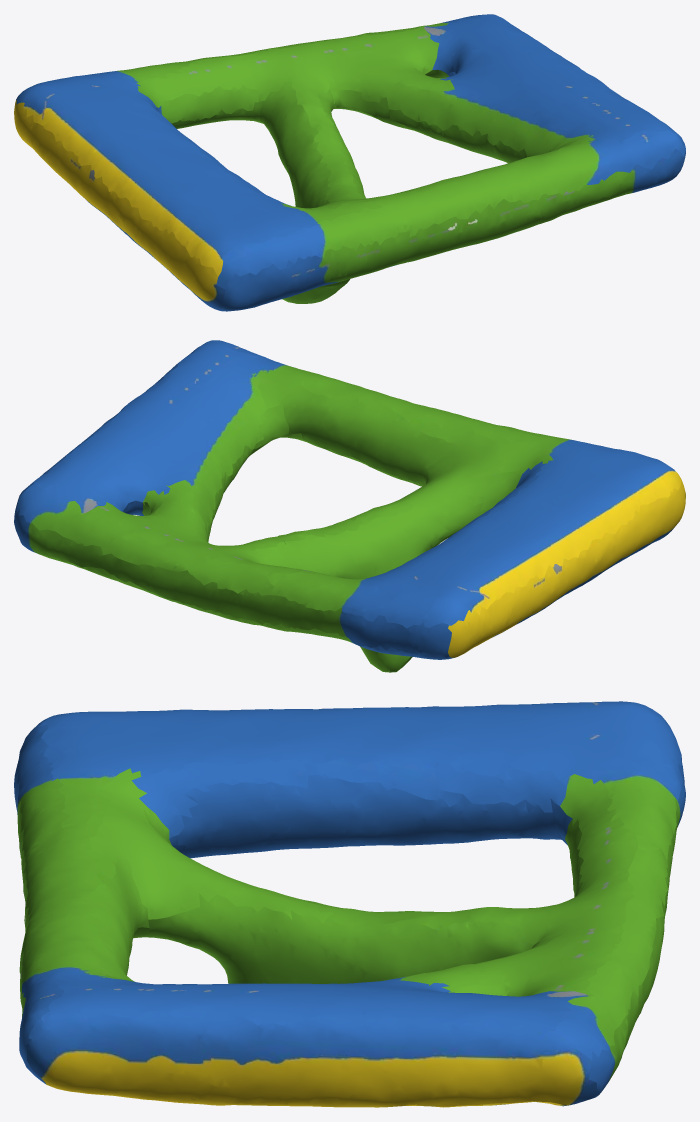
Rendered from v-connect.glb.
The picture shows the model from 3 angles, top to bottom: view 1: azimuth 30°, elevation 25°; view 2: azimuth 150°, elevation 25°; view 3: azimuth 270°, elevation 25°; orthographic projection. The views are drawn at different scales.
Visible parts, largest first — view 1: geometry_0; view 2: geometry_0; view 3: geometry_0.
Part boxes in pixels (x1,y1,x2,y2): geometry_0: (14,14,685,311); geometry_0: (14,340,685,672); geometry_0: (14,701,685,1107).
Size of the model in its own units: 0.996 by 0.3541 by 0.8334.
Materials: 1 (1 with a texture image).
